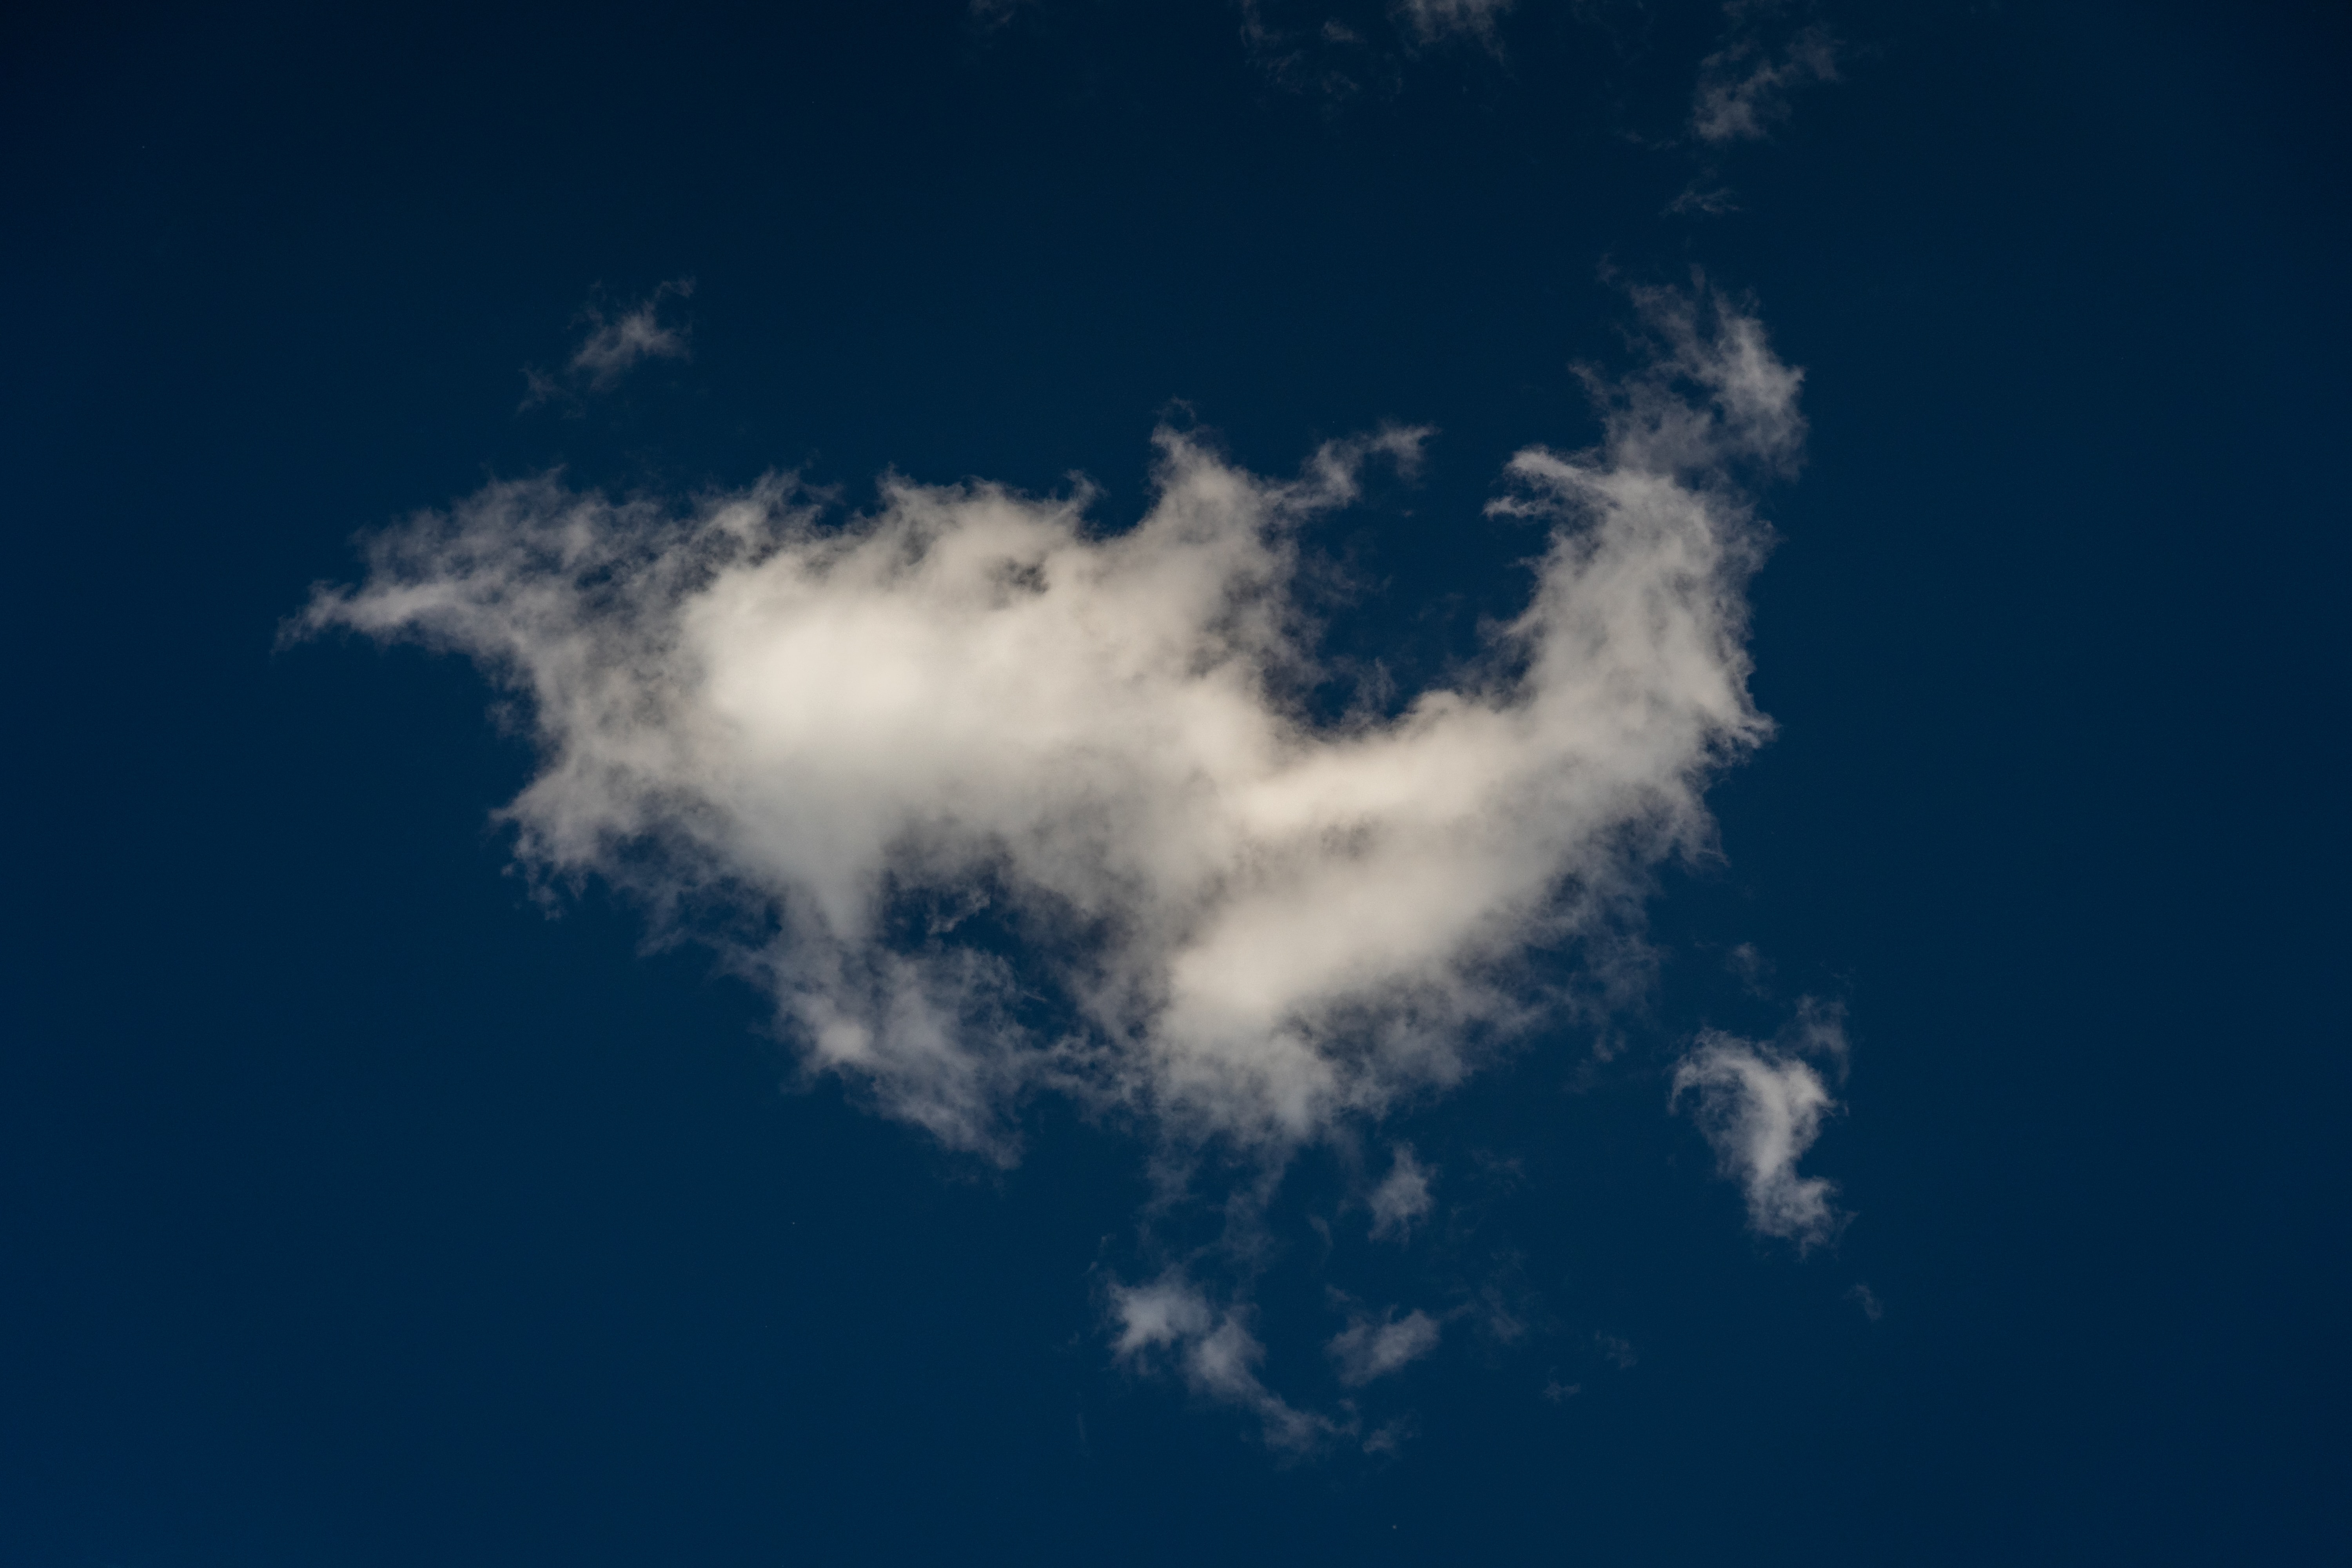Cirrus: (247, 152, 1997, 1440)
